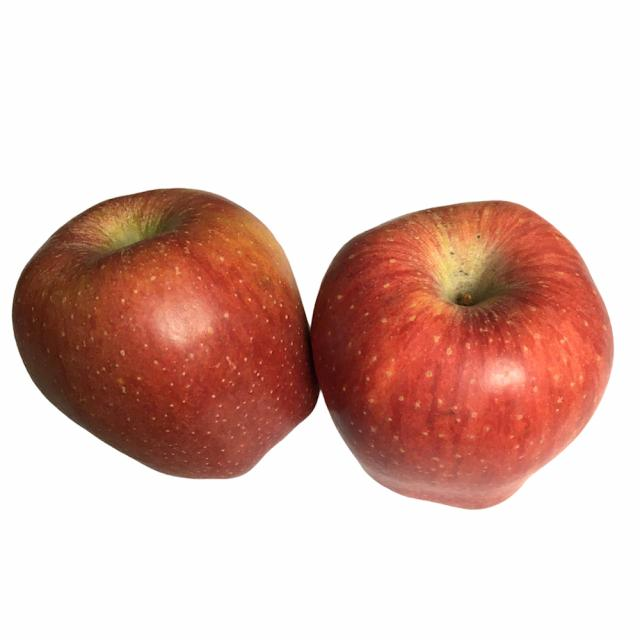Apple: (310, 201, 615, 513), (12, 189, 321, 483)
